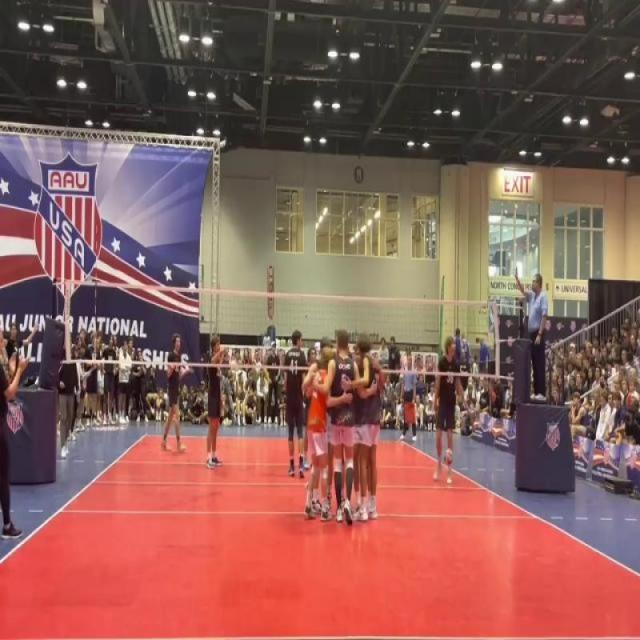volleyball: (442, 446, 454, 468)
